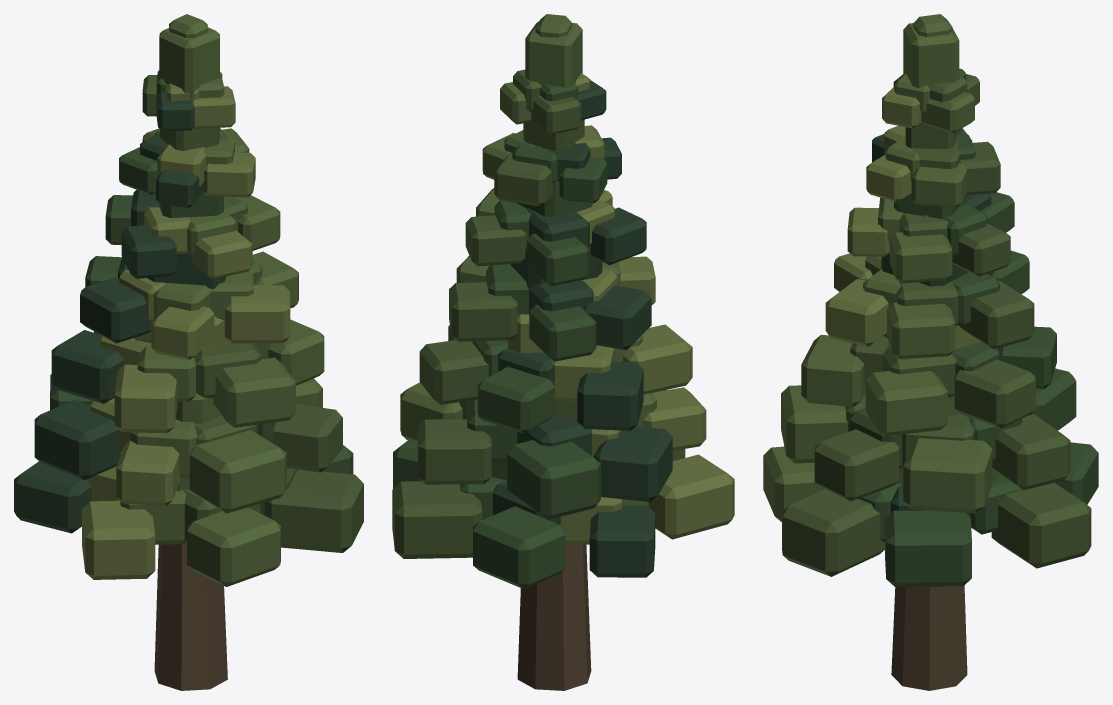
The model's file is pine_ancient.glb.
3 renders of one model, left to right at view 1: azimuth 30°, elevation 25°; view 2: azimuth 150°, elevation 25°; view 3: azimuth 270°, elevation 25°, orthographic.
Parts seen in each view (by area): view 1: pine_ancient; view 2: pine_ancient; view 3: pine_ancient.
Boxes of the visible parts, box(x1,y1,x2,y2) form: pine_ancient: box(14, 14, 363, 690); pine_ancient: box(392, 14, 734, 690); pine_ancient: box(763, 14, 1098, 690).
Size of the model in its own units: 12.37 by 27 by 12.52.
